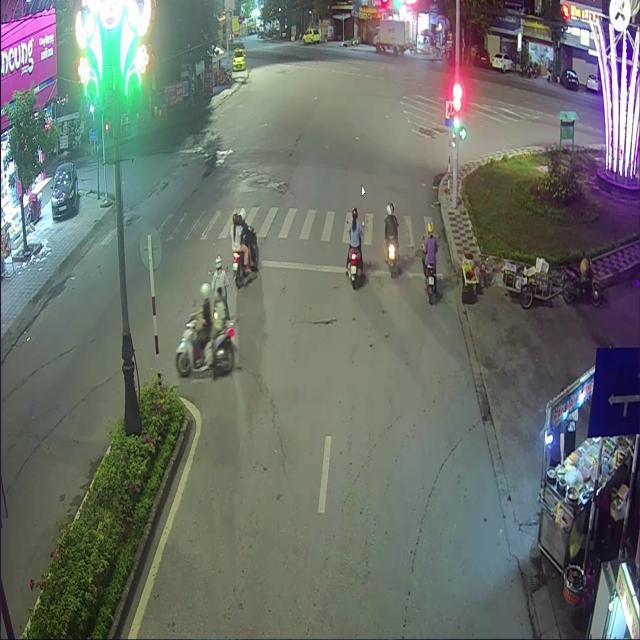motobike: (174, 313, 235, 377), (231, 224, 255, 291), (210, 303, 231, 349), (385, 232, 400, 283), (344, 245, 362, 287), (424, 265, 436, 305)
red_light: (452, 97, 459, 127)
stop_line: (231, 258, 442, 280)
